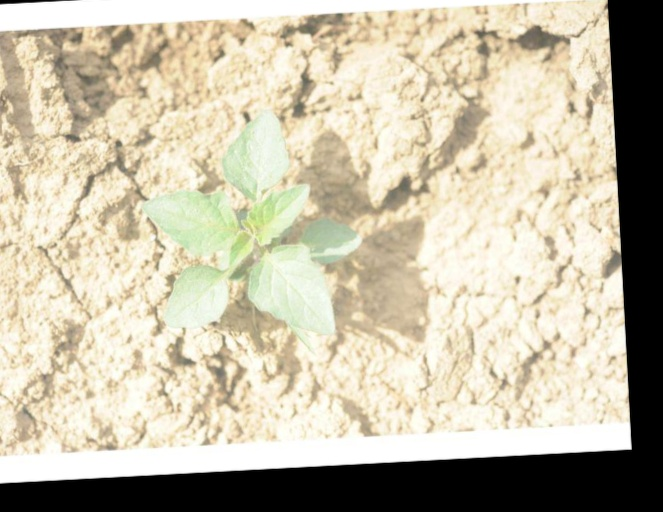nightshade: (142, 109, 360, 339)
